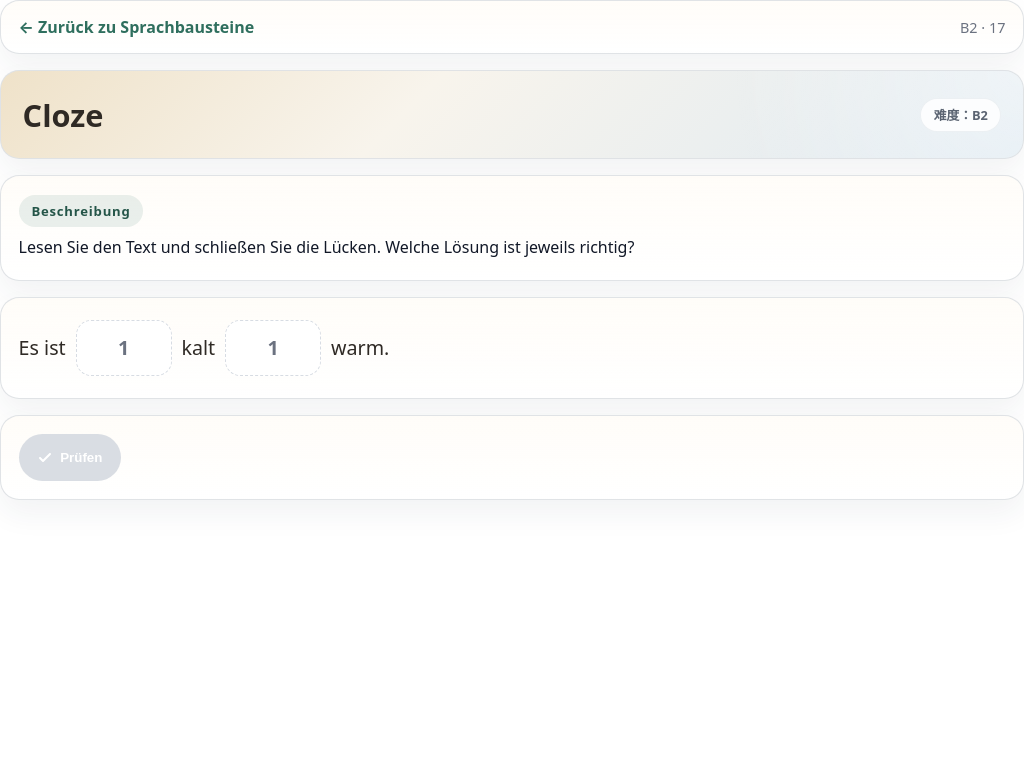
Cloze exercise layout › splits a B2 paired answer while rendering its explanation only once
Click the 1st button "1" at (124, 348), box x1=100 y1=316 x2=148 y2=381
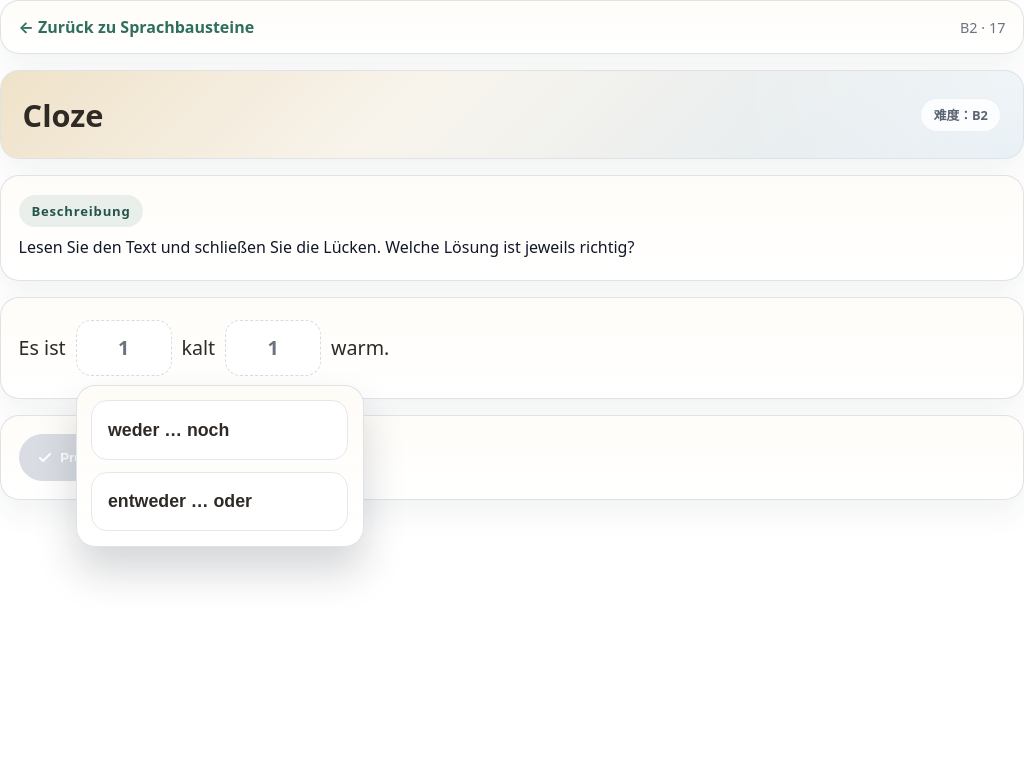
Now the number of dialogs named "1" is 1, box x1=76 y1=385 x2=364 y2=547
Click the button "entweder … oder" at (220, 501), box x1=91 y1=472 x2=348 y2=531
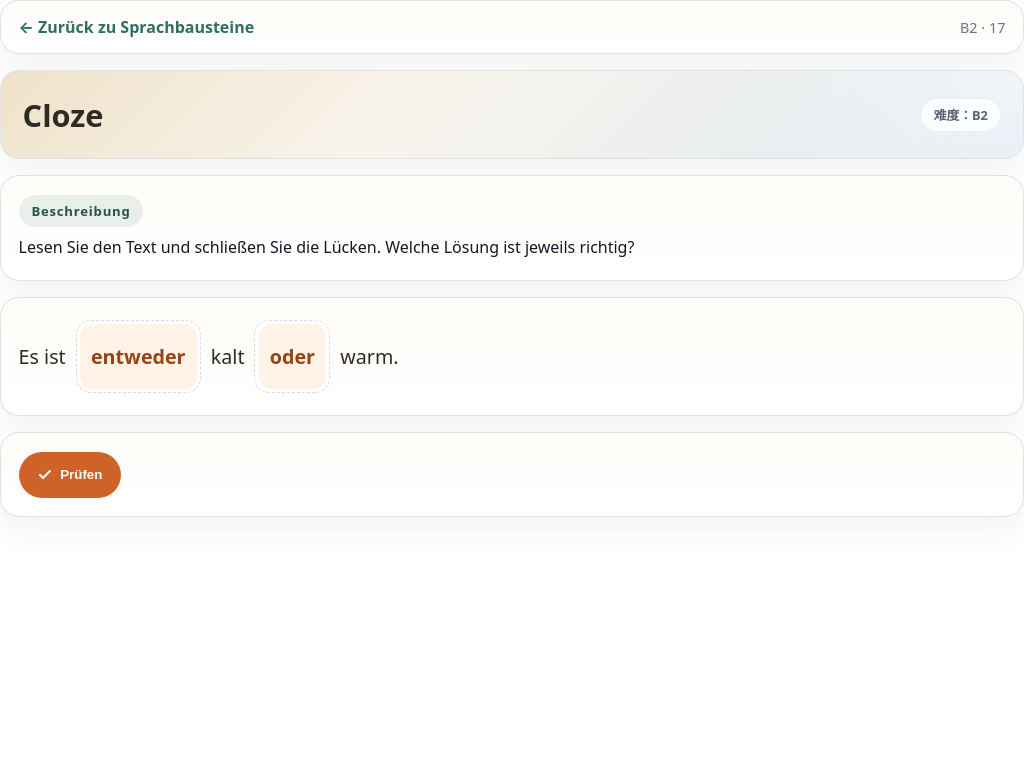
Expected: the button named "1" does not show "oder", x1=80 y1=324 x2=197 y2=389
Now the button named "1" reads "entweder", box x1=80 y1=324 x2=197 y2=389
Now the button named "1" reads "oder", box x1=259 y1=324 x2=326 y2=389
Click the button "Prüfen" at (70, 475), box x1=19 y1=452 x2=121 y2=498
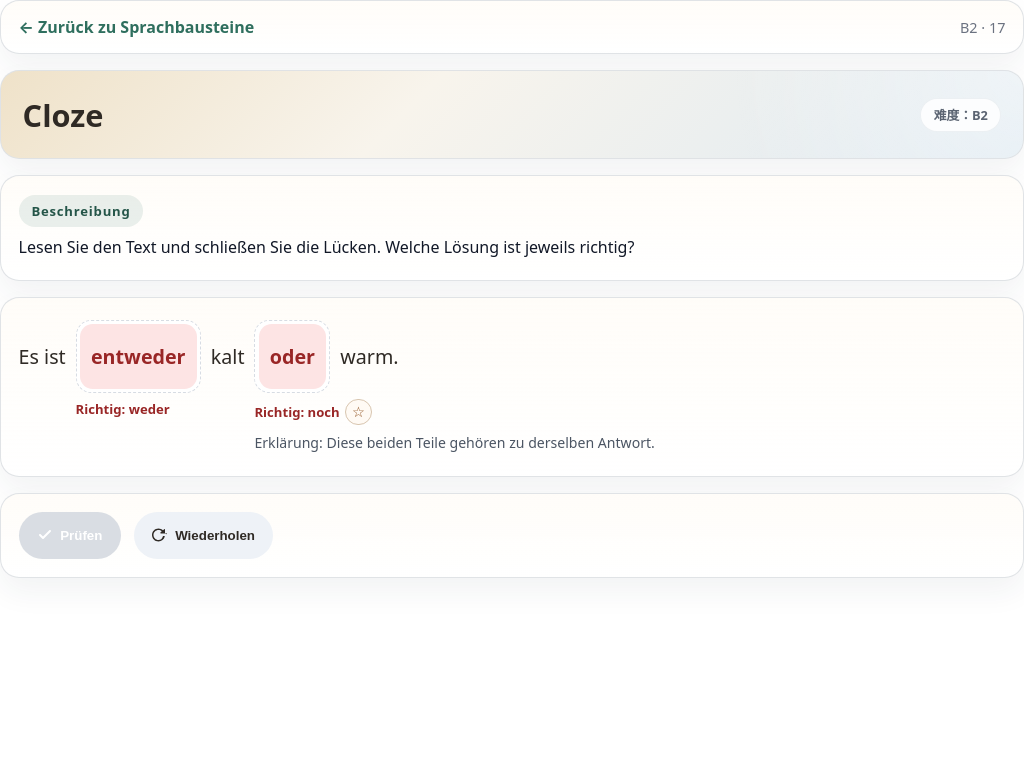
Now the text "Richtig: noch" is shown, box x1=254 y1=402 x2=340 y2=422
Now the number of elements with class "cloze-choice-inline-details" is 2, box x1=76 y1=399 x2=170 y2=419; x1=254 y1=399 x2=655 y2=454
Now the number of elements with class "cloze-choice-inline-explanation" is 1, box x1=254 y1=432 x2=655 y2=454
